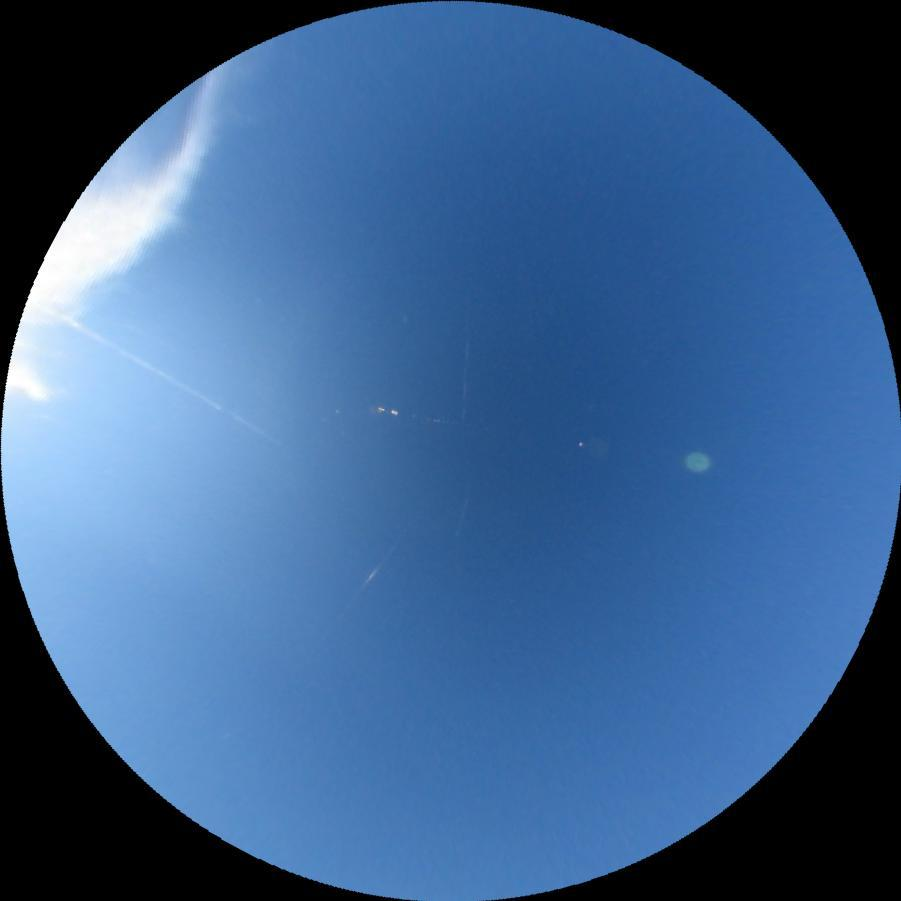parasite: (57, 312, 288, 449), (343, 538, 400, 609), (459, 312, 470, 433), (453, 489, 471, 539)
